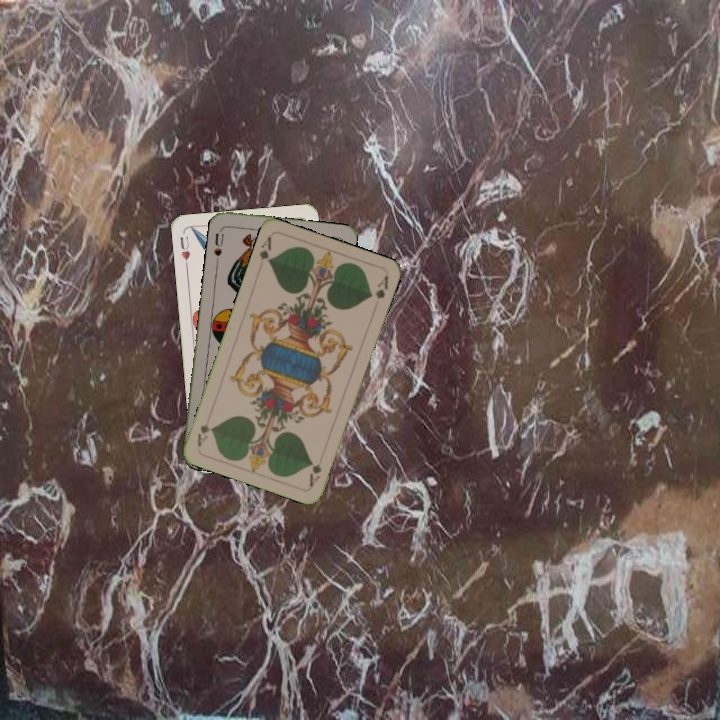GA: (255, 232, 274, 266), (305, 460, 324, 489)
HU: (176, 232, 193, 270)
SU: (210, 225, 226, 259)
